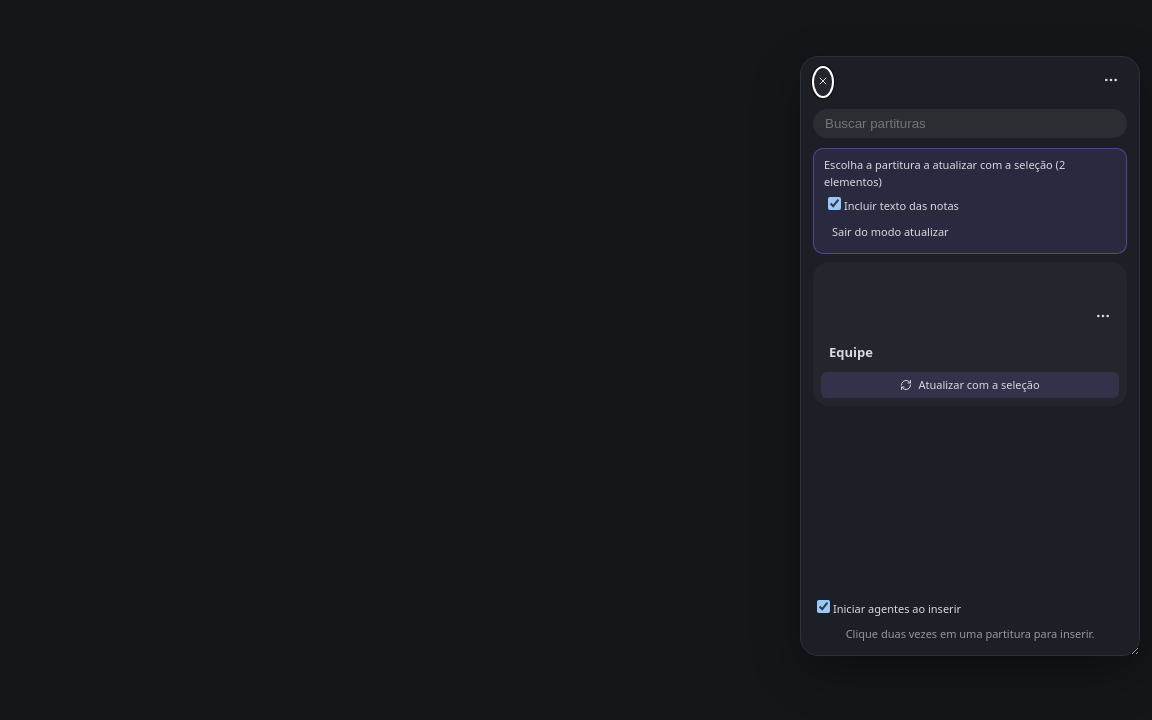
Test: "Salvar andar atual" salva o andar, mesmo com o painel aberto por uma seleção
Later steps or results of the test are not shown.
Click the button named "Ações das partituras".
click(1111, 82)  # box [1095,67,1127,97]
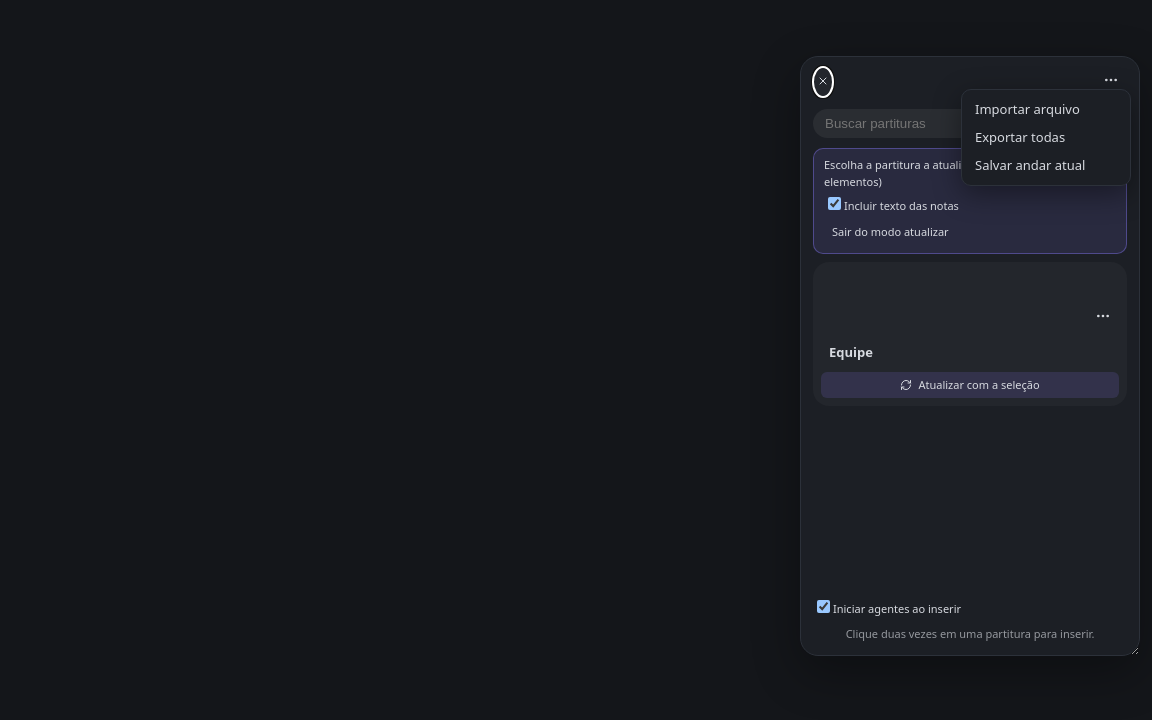
Now the menu item "Salvar andar atual" is shown, box [967,151,1125,180]
